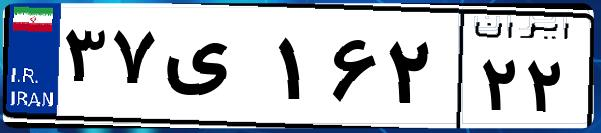1: (270, 28, 330, 110)
2: (385, 28, 445, 110), (475, 38, 525, 113), (525, 38, 570, 115)
3: (57, 26, 110, 100)
6: (330, 28, 385, 110)
7: (110, 28, 158, 98)
ی: (158, 20, 270, 120)
